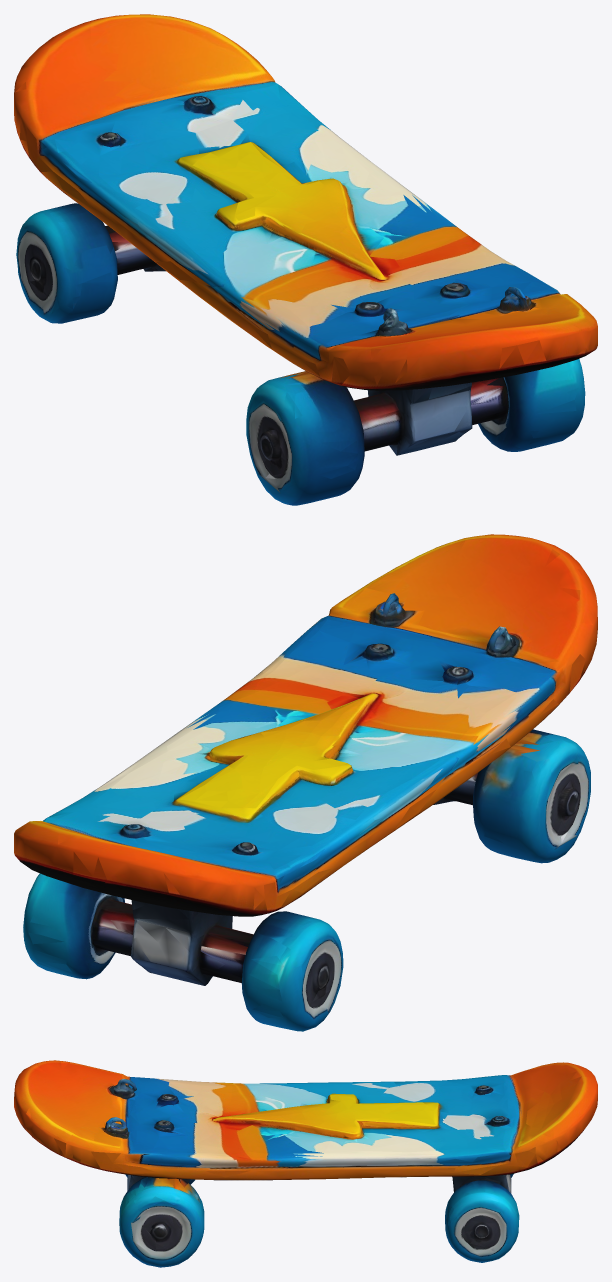
File: skateboardfbx.fbx
3 views of the same model, one above another, from view 1: azimuth 30°, elevation 25°; view 2: azimuth 150°, elevation 25°; view 3: azimuth 270°, elevation 25° (orthographic). The views are drawn at different scales.
Visible parts, largest first — view 1: tripo_node_9982a930; view 2: tripo_node_9982a930; view 3: tripo_node_9982a930.
Boxes of the visible parts, x1,y1,x2,y2 form: tripo_node_9982a930: (14,14,597,505); tripo_node_9982a930: (14,534,597,1031); tripo_node_9982a930: (14,1060,597,1267).
Size of the model in its own units: 39.48 by 27.45 by 99.98.
